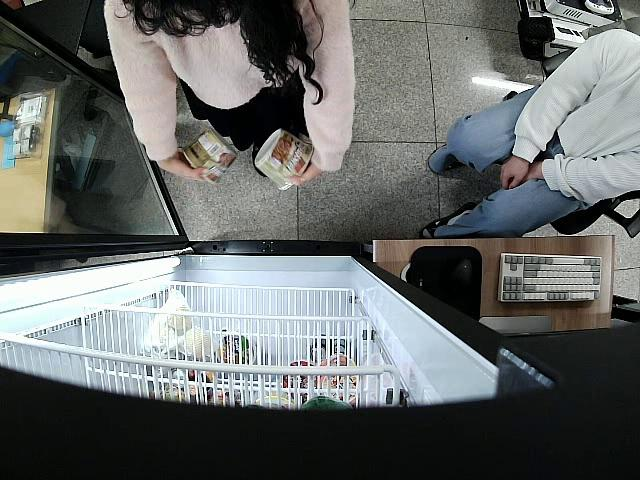00_hand: (166, 157, 207, 182)
03_chapagetti_L: (256, 129, 313, 193), (178, 128, 237, 185)
